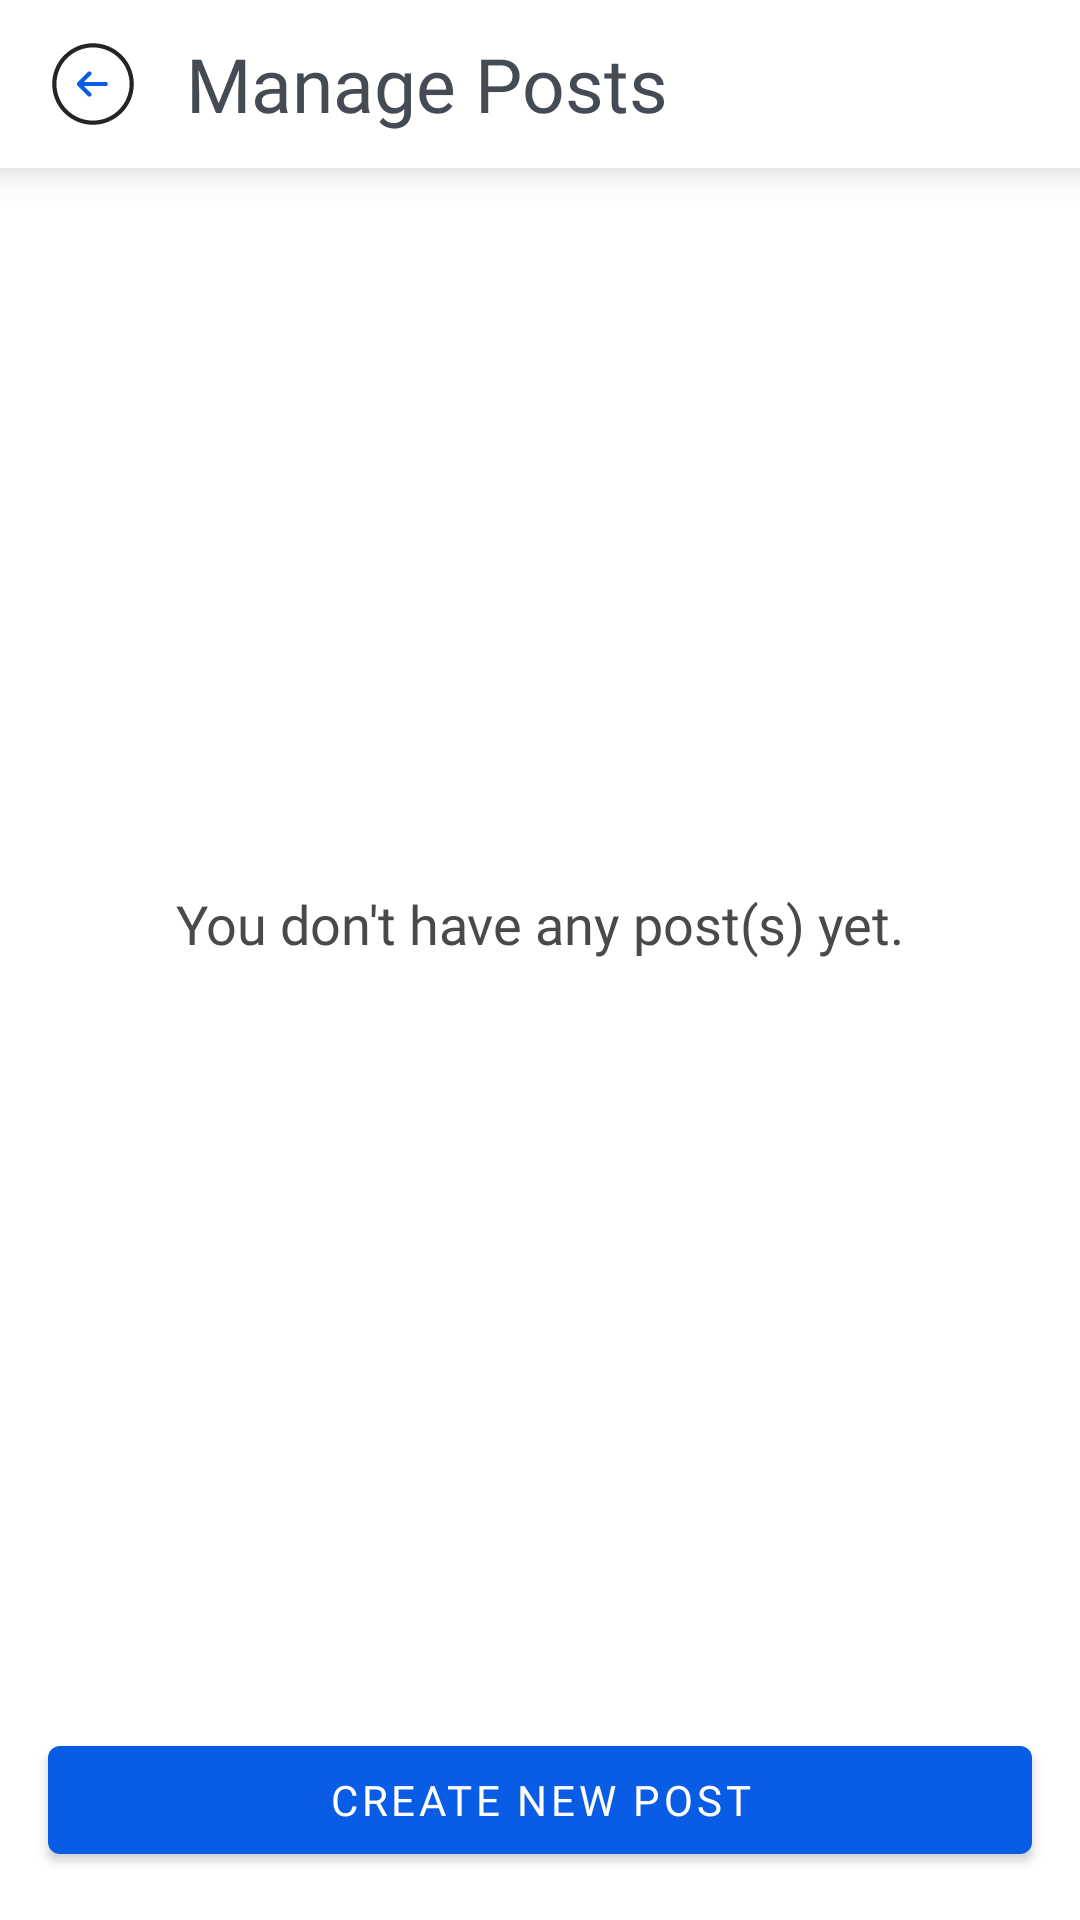

Icon bounding boxes for this 1080*1920 phone screenshot, format bbox=[x1, y1, x2, y2]:
go back: bbox=[52, 43, 134, 125]
